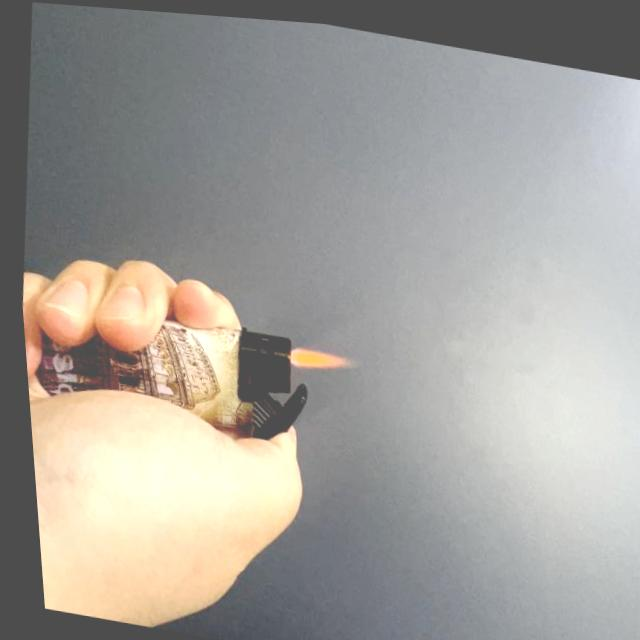helmet: (280, 337, 350, 373)
